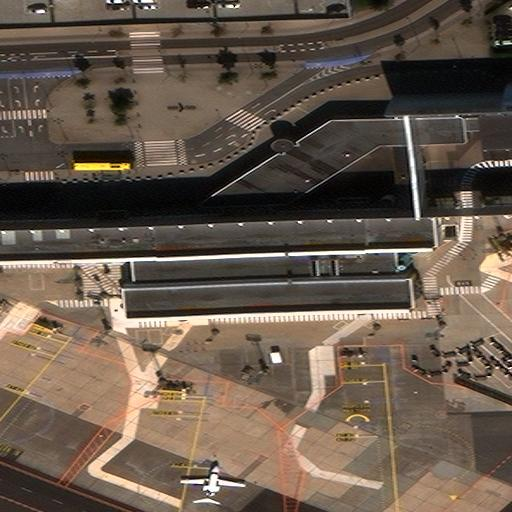Small Civil Transport: (181, 465, 246, 503)
